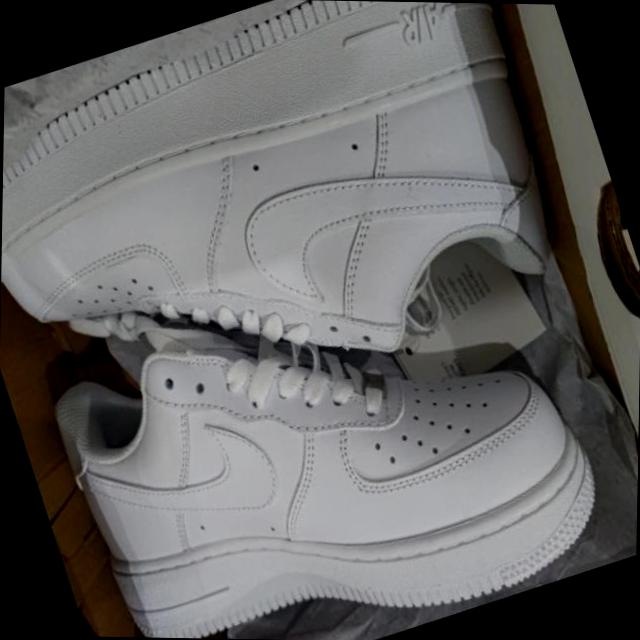nike_original_airforce: (0, 0, 583, 476), (25, 195, 626, 640)
